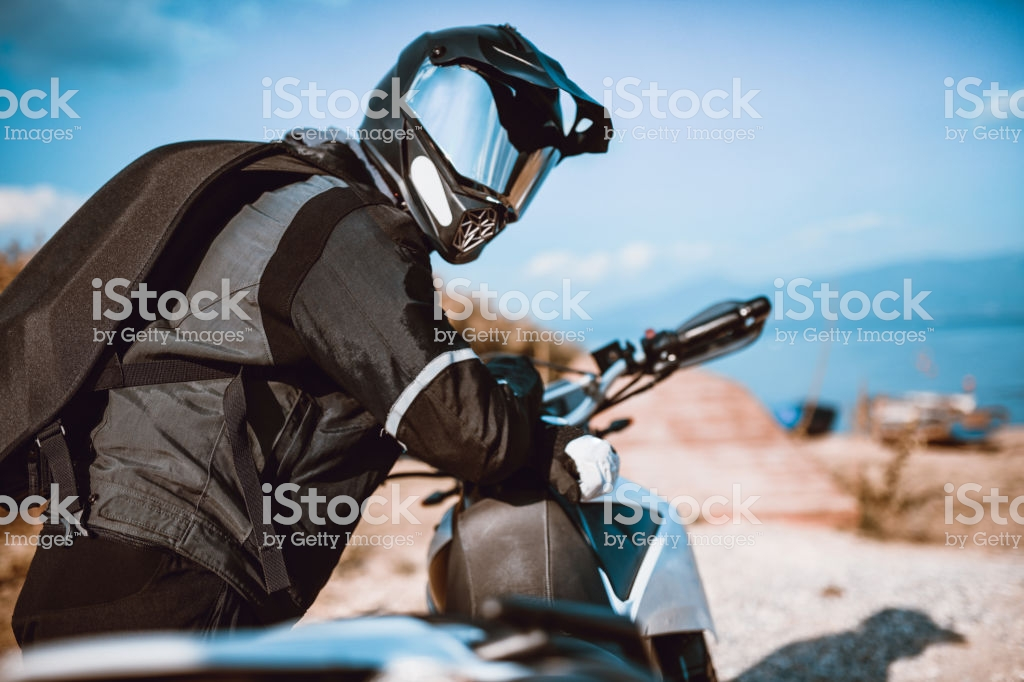helmet: (381, 21, 598, 245)
